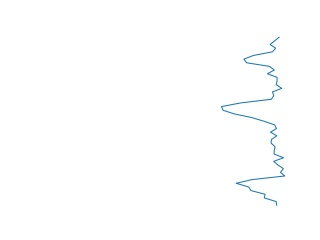underwaterNaturalLevee: (218, 36, 290, 205)
